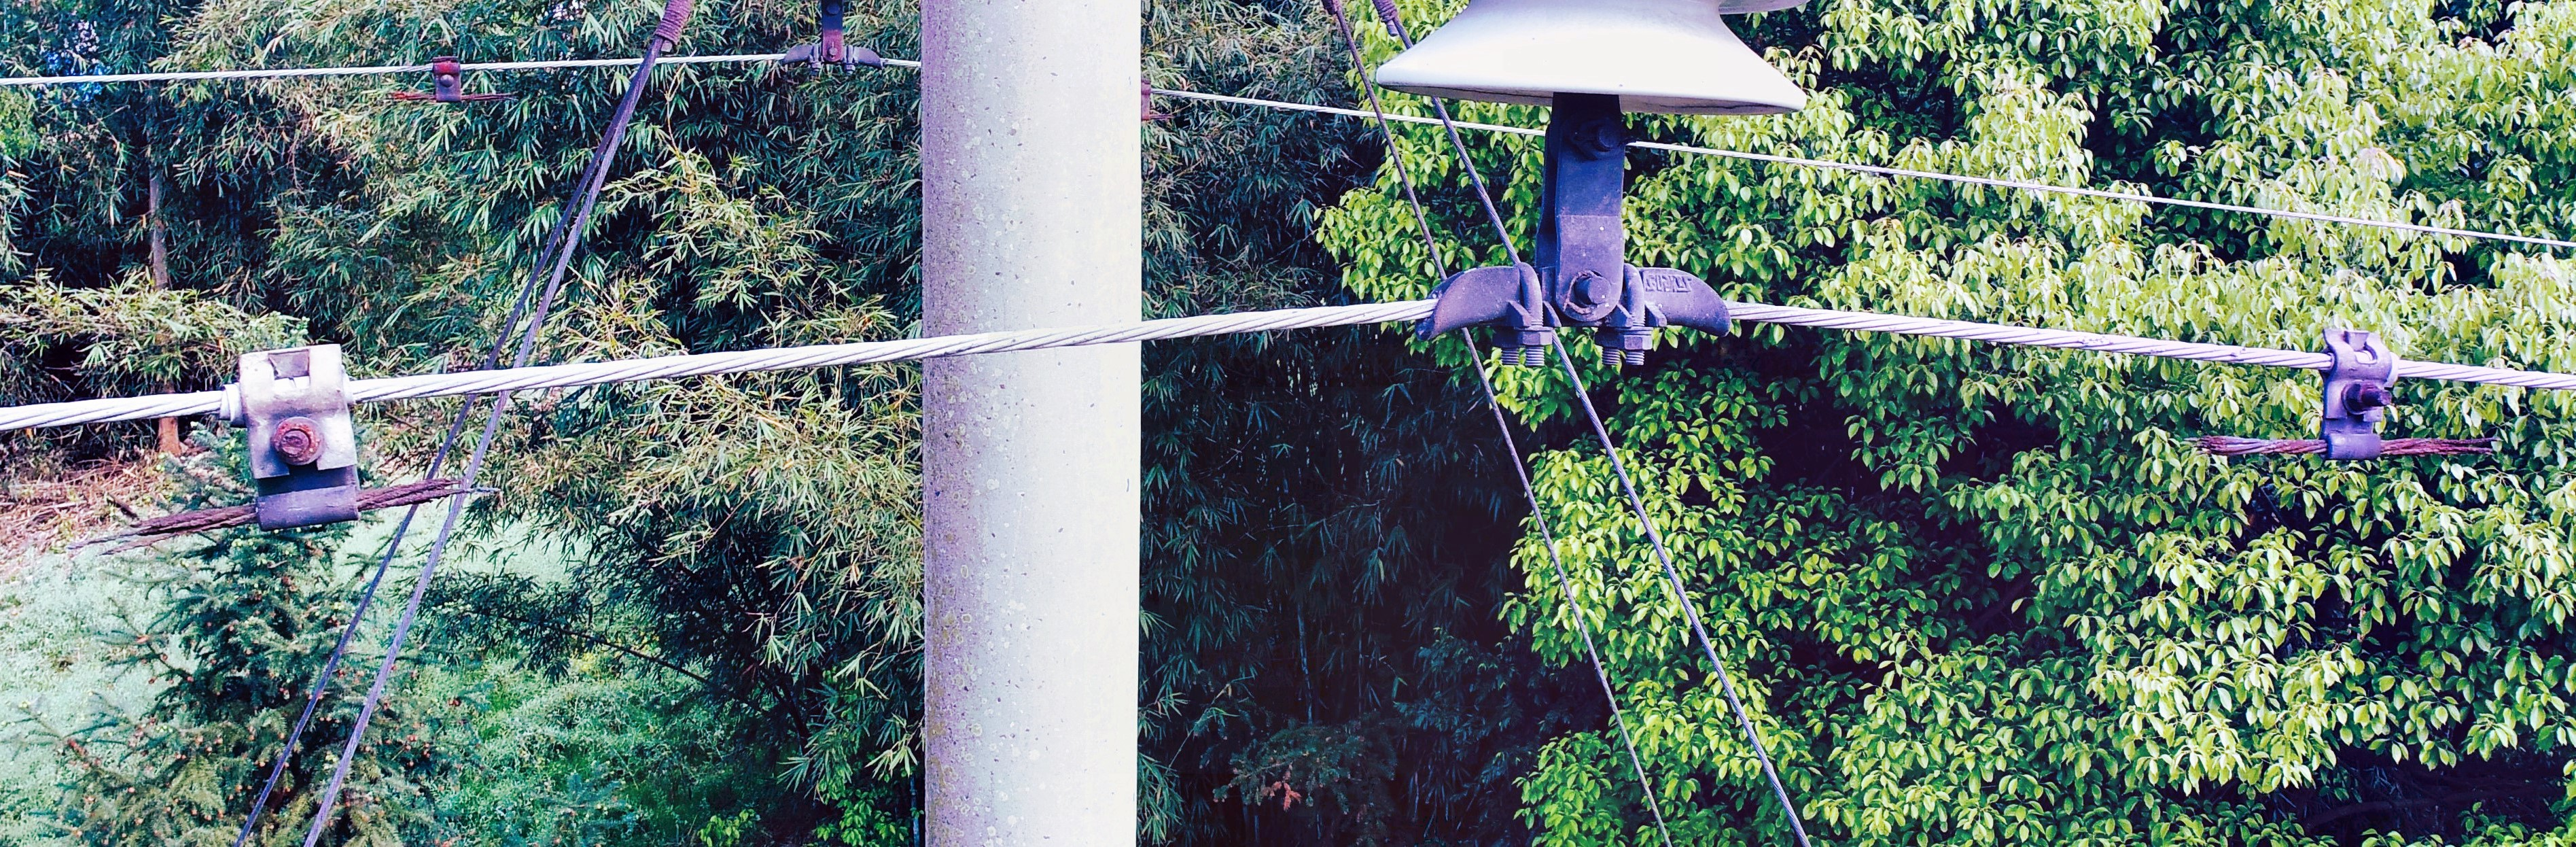Damage of shockproof hammer: (120, 322, 486, 599), (2177, 317, 2509, 487)
